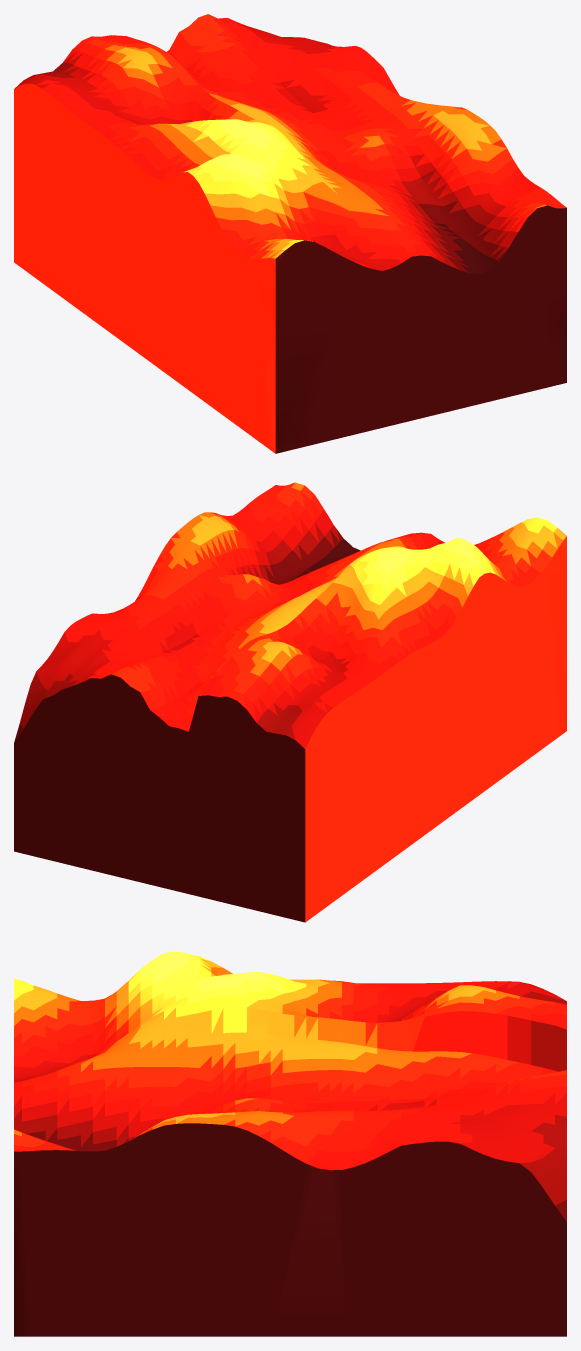
Rendered from core_fire_61.glb.
3 views of the same model, one above another, from view 1: azimuth 30°, elevation 25°; view 2: azimuth 150°, elevation 25°; view 3: azimuth 270°, elevation 25° (orthographic). The views are drawn at different scales.
Parts seen in each view (by area): view 1: core_fire_61_fire; view 2: core_fire_61_fire; view 3: core_fire_61_fire.
Part boxes in pixels (x1,y1,x2,y2): core_fire_61_fire: (14,14,566,453); core_fire_61_fire: (14,482,566,922); core_fire_61_fire: (14,951,566,1336).
Bounding box in the file's own units: 18 × 13.93 × 28.
